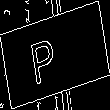P_N: (40, 26, 70, 84)
